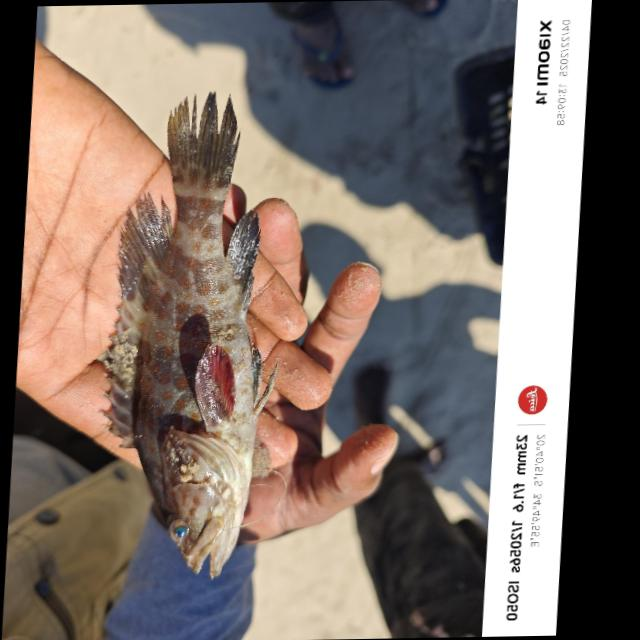Groupers: (84, 93, 285, 584)
